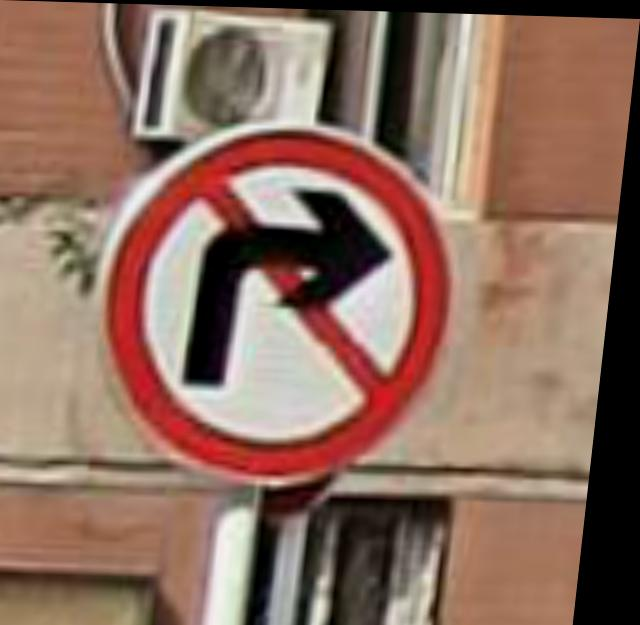not_turn_right: (90, 107, 487, 486)
